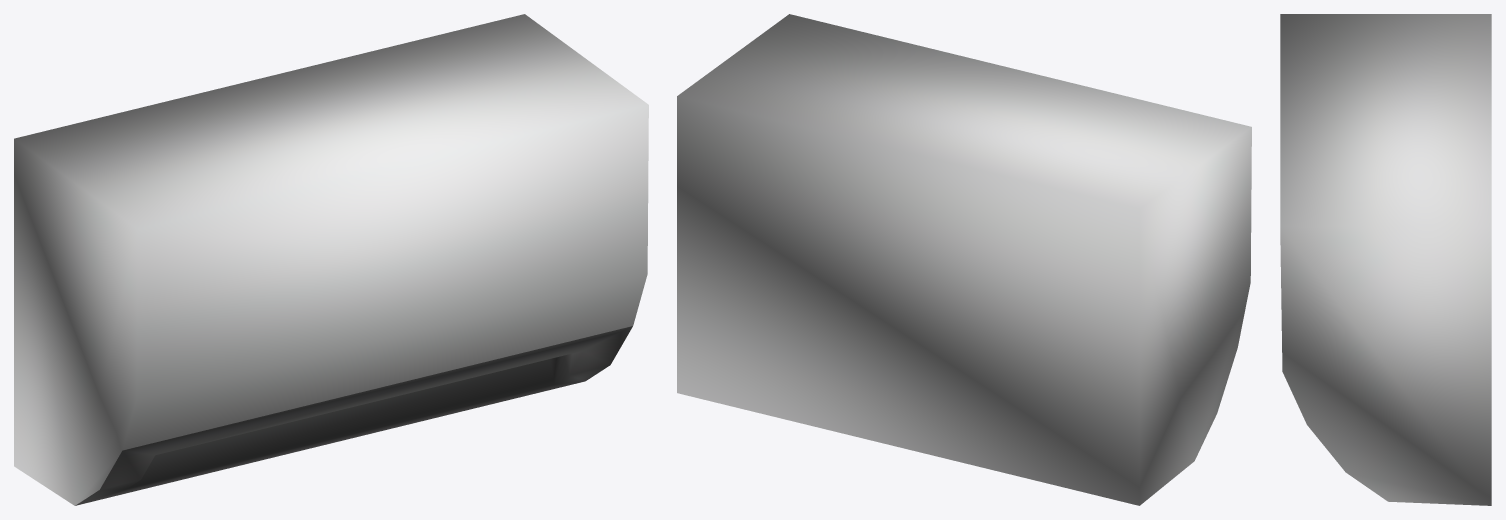
The model's file is ArCondicionado.fbx.
3 views of the same model, side by side, from view 1: azimuth 30°, elevation 25°; view 2: azimuth 150°, elevation 25°; view 3: azimuth 270°, elevation 25° (orthographic). The views are drawn at different scales.
Parts seen in each view (by area): view 1: ArCondicionado; view 2: ArCondicionado; view 3: ArCondicionado.
Boxes of the visible parts, box(x1,y1,x2,y2) form: ArCondicionado: box(14, 14, 648, 505); ArCondicionado: box(677, 14, 1251, 505); ArCondicionado: box(1280, 14, 1491, 505).
Size of the model in its own units: 93.76 by 57.49 by 39.45.
Materials: 1 (1 with a texture image).
